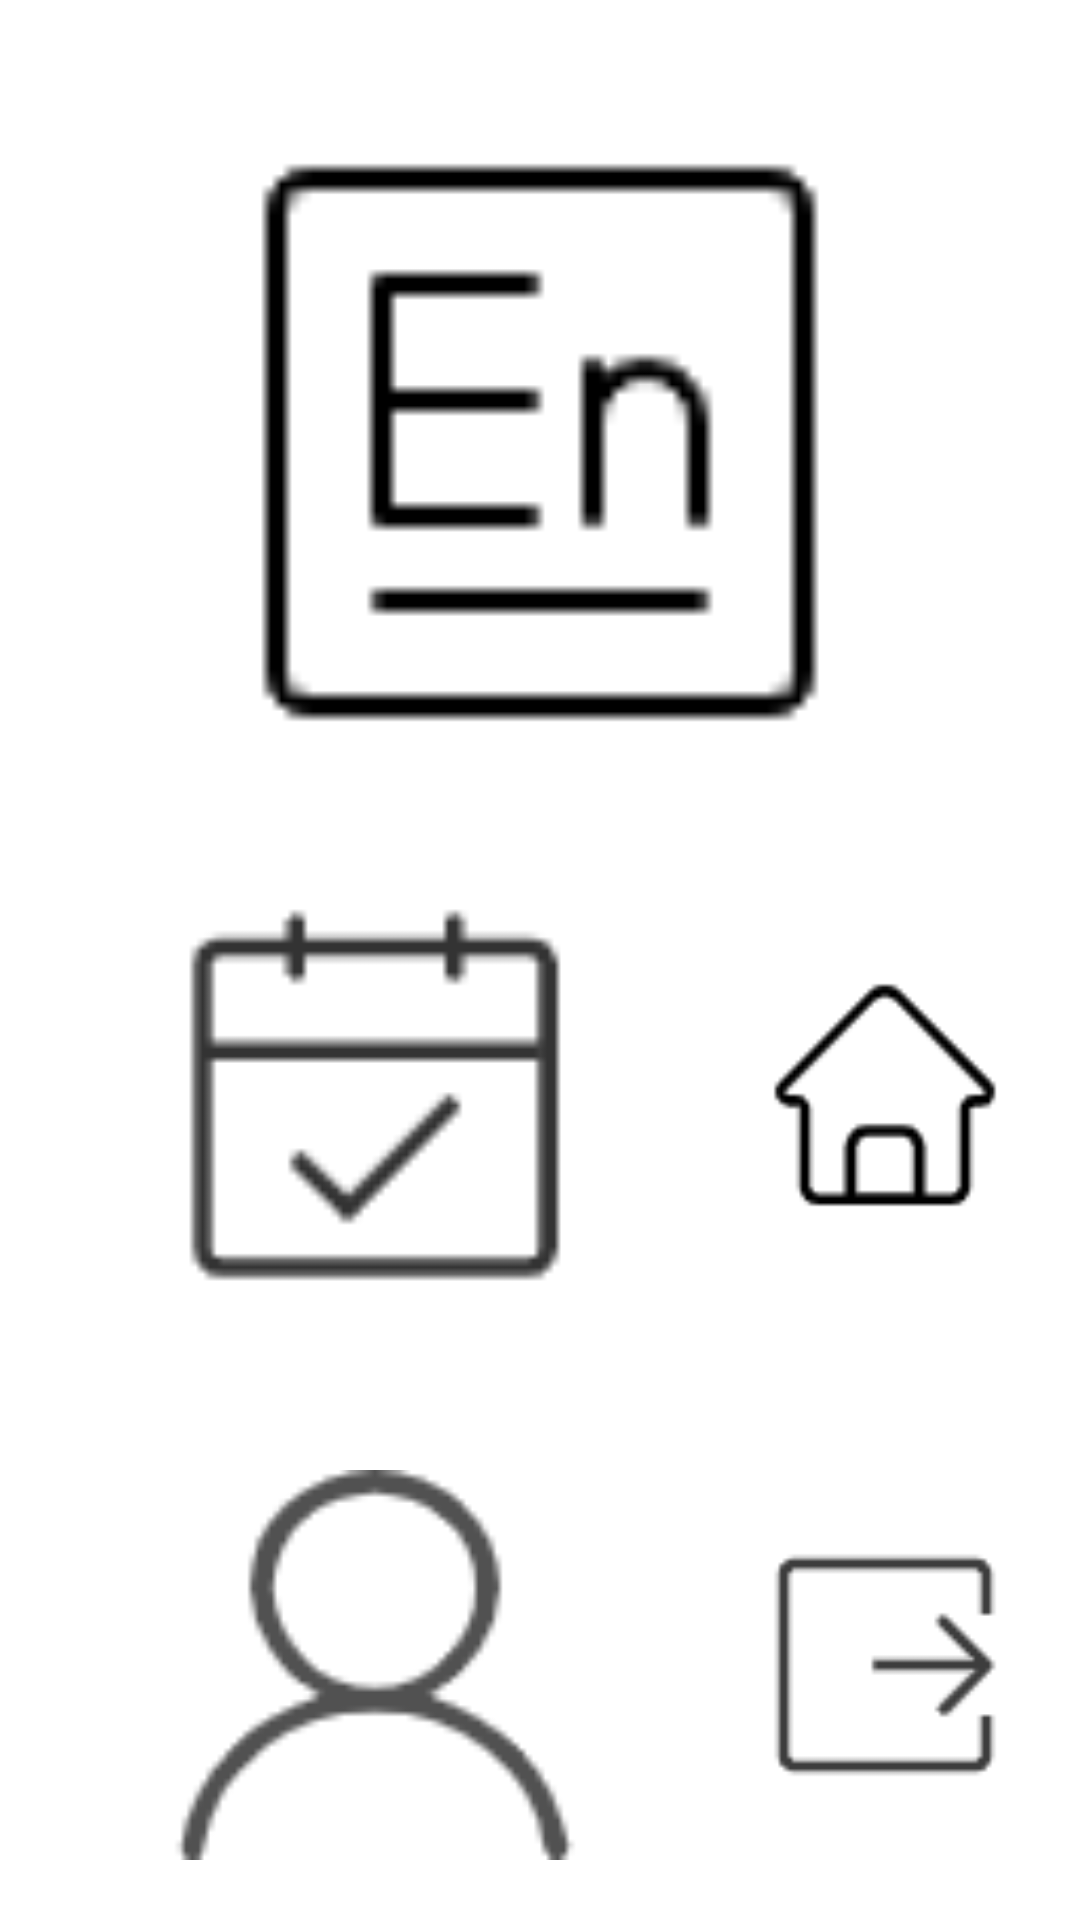

Point at icon controls on the screen. Image size 1080 × 1920, points as (x=x, y=y).
exit: (x=885, y=1665)
main: (x=885, y=1095)
